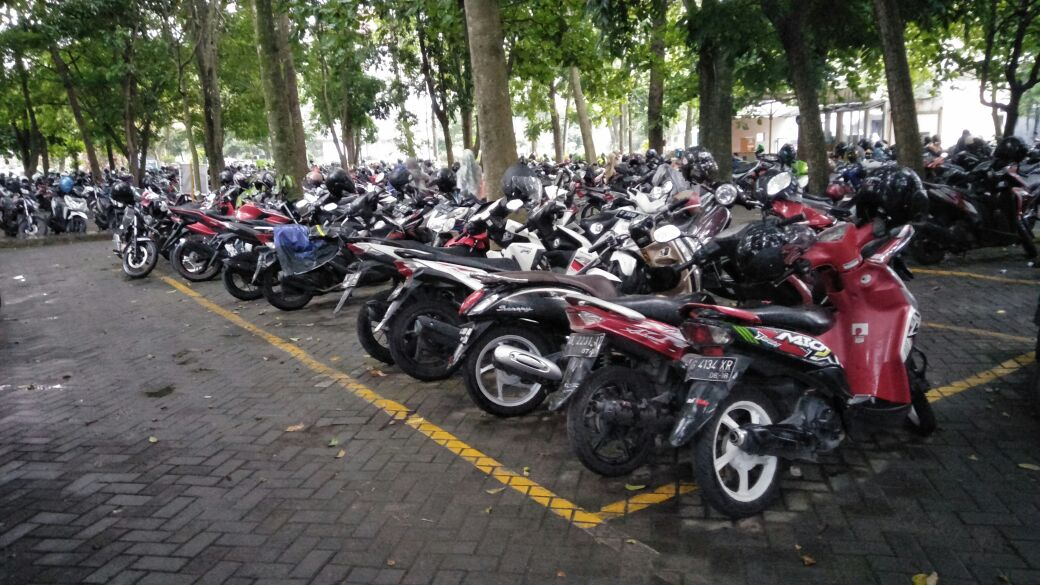plate: (686, 356, 734, 381)
